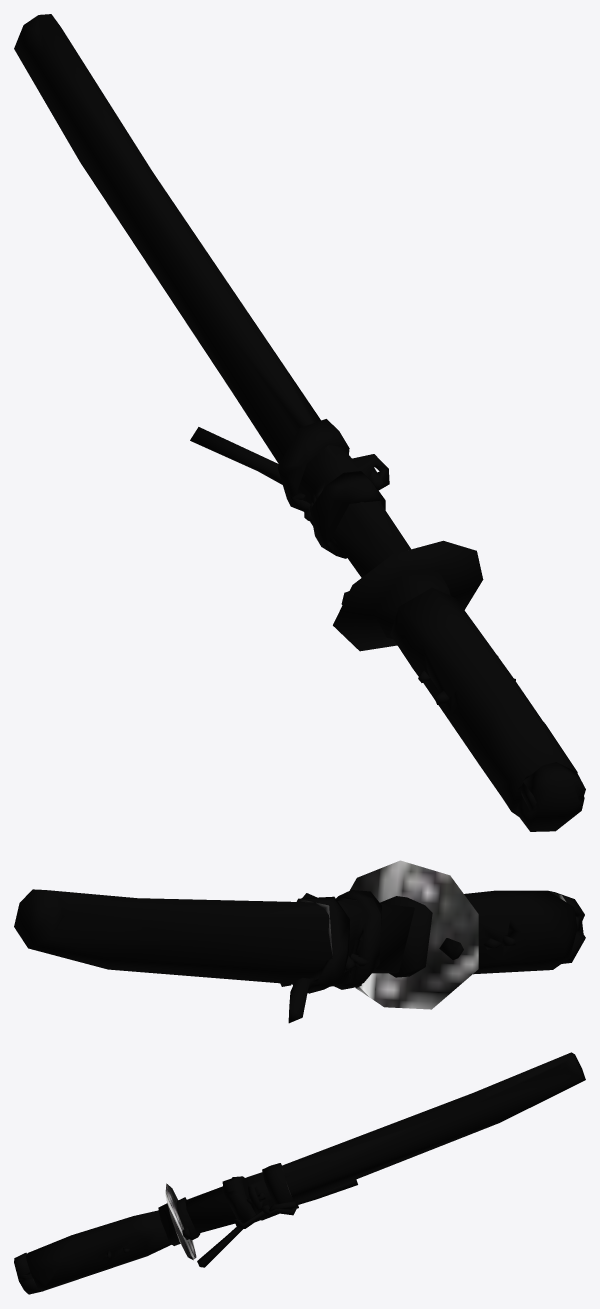
The model's file is 武士刀.fbx.
3 renders of one model, top to bottom at view 1: azimuth 30°, elevation 25°; view 2: azimuth 150°, elevation 25°; view 3: azimuth 270°, elevation 25°, orthographic. The views are drawn at different scales.
Parts seen in each view (by area): view 1: tripo_node_9f37003d-00e4-46ad-b435-aad72360b564.005; view 2: tripo_node_9f37003d-00e4-46ad-b435-aad72360b564.005; view 3: tripo_node_9f37003d-00e4-46ad-b435-aad72360b564.005.
Part boxes in pixels (x1,y1,x2,y2): tripo_node_9f37003d-00e4-46ad-b435-aad72360b564.005: (14,14,585,831); tripo_node_9f37003d-00e4-46ad-b435-aad72360b564.005: (14,860,585,1023); tripo_node_9f37003d-00e4-46ad-b435-aad72360b564.005: (14,1052,585,1294).
Bounding box in the file's own units: 16.3 × 46.36 × 100.
